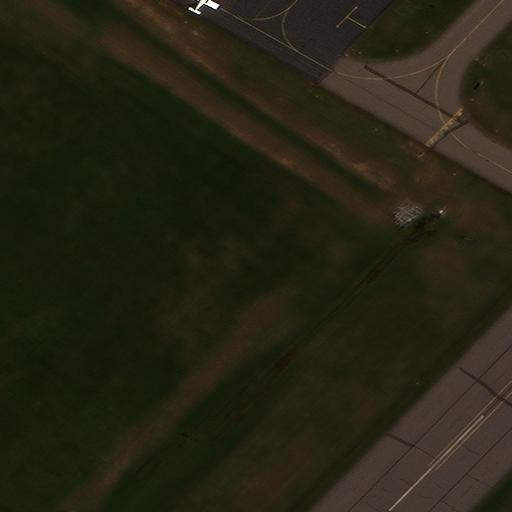Small Civil Transport: (192, 0, 220, 12)
